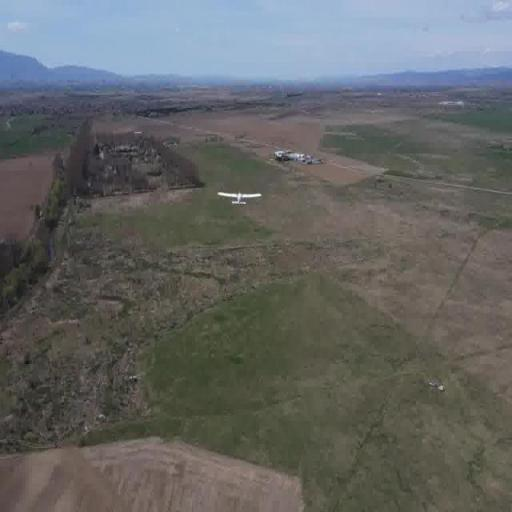uav: (216, 183, 264, 213)
